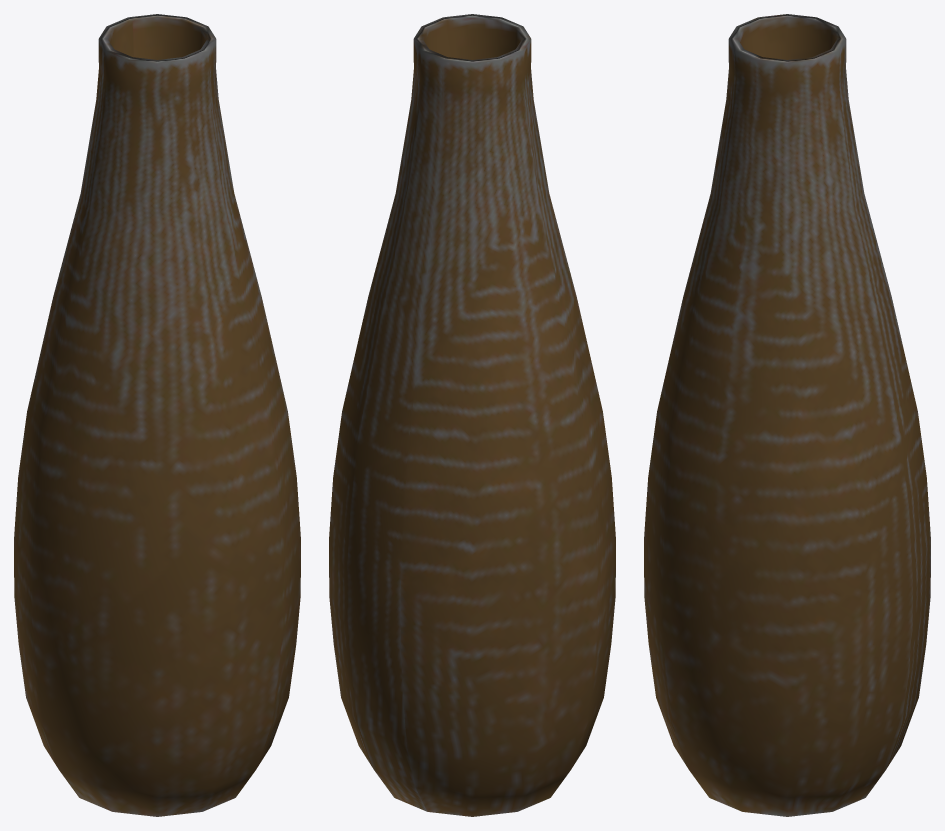
The model's file is FlowerVase.glb.
3 renders of one model, left to right at view 1: azimuth 30°, elevation 25°; view 2: azimuth 150°, elevation 25°; view 3: azimuth 270°, elevation 25°, orthographic.
Parts seen in each view (by area): view 1: SM_Pot6; view 2: SM_Pot6; view 3: SM_Pot6.
Boxes of the visible parts, x1,y1,x2,y2 form: SM_Pot6: (14,14,300,816); SM_Pot6: (329,14,615,816); SM_Pot6: (644,14,930,816).
Size of the model in its own units: 0.0765 by 0.2176 by 0.0765.
1 material, 1 textured.
